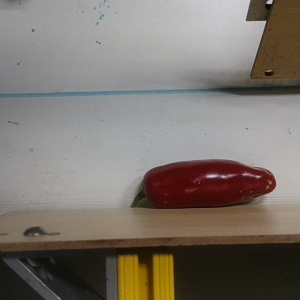Cut Point: (134, 166, 164, 210)
